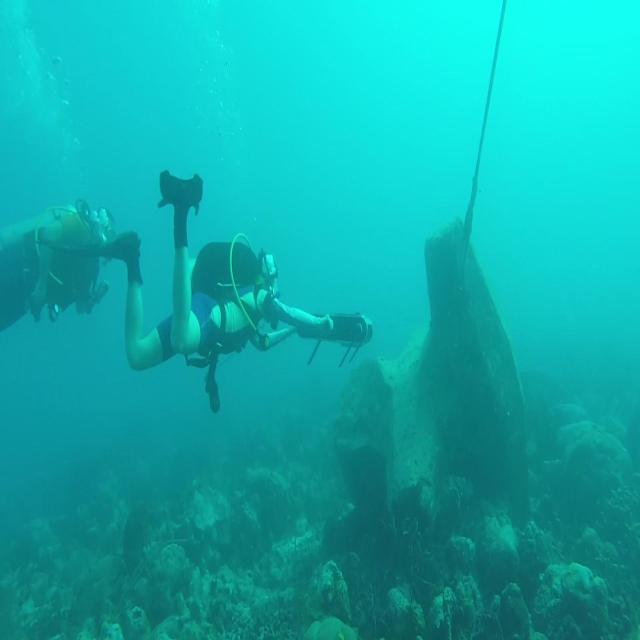human: (120, 168, 373, 414), (0, 197, 142, 332)
